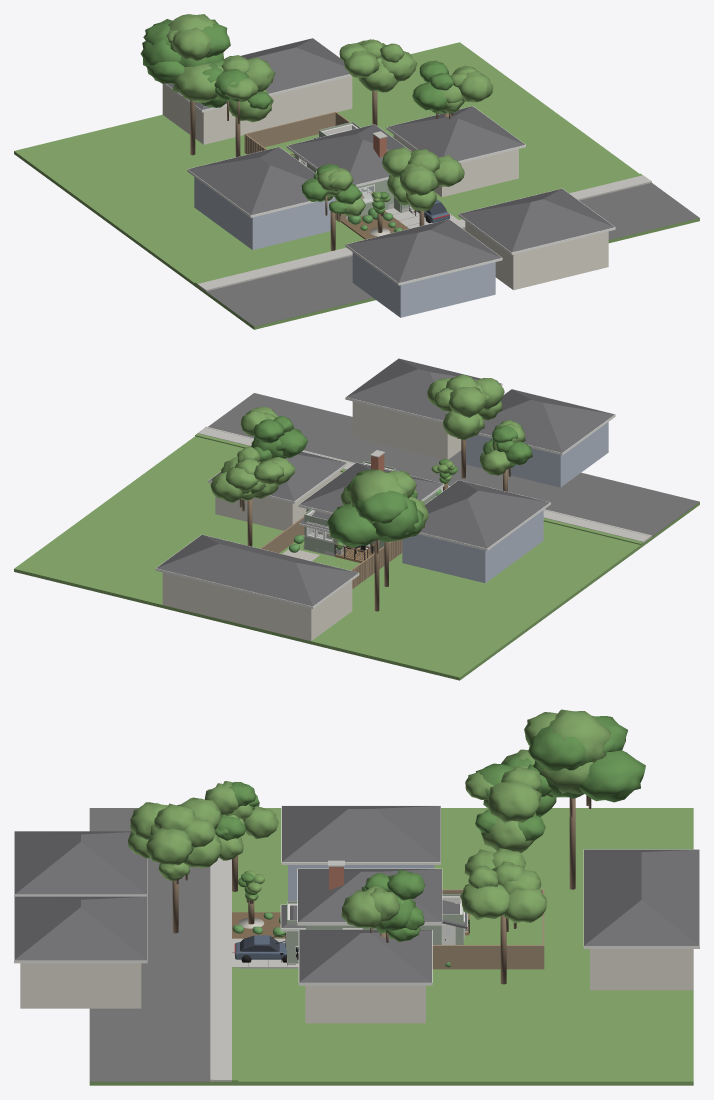
Rendered from house.glb.
3 views of the same model, one above another, from view 1: azimuth 30°, elevation 25°; view 2: azimuth 150°, elevation 25°; view 3: azimuth 270°, elevation 25° (orthographic). The views are drawn at different scales.
Visible parts, largest first — view 1: ground, street, nbAcross2.roof, nbAcross1.roof, nbBack, nbW.roof, nbAcross1, nbW, nbAcross2, nbE.roof, roof_main, nbBack.roof (+25 smaller); view 2: ground, street, nbBack.roof, nbBack, nbW.roof, nbW, nbAcross1.roof, nbAcross2, nbAcross2.roof, nbAcross1, nbE, nbE.roof (+19 smaller); view 3: ground, street, nbBack.roof, nbW.roof, nbAcross2.roof, nbAcross1.roof, nbE.roof, nbAcross2, nbE, nbBack, sidewalk, roof_main (+30 smaller).
Part boxes in pixels (box(x1,y1,x2,y2)): ground: box(14, 42, 699, 329); street: box(206, 183, 699, 326); nbAcross2.roof: box(459, 188, 614, 252); nbAcross1.roof: box(346, 219, 501, 282); nbBack: box(162, 76, 352, 144); nbW.roof: box(188, 147, 315, 215); nbAcross1: box(352, 252, 495, 317); nbW: box(194, 177, 335, 249); nbAcross2: box(465, 221, 608, 290); nbE.roof: box(388, 106, 524, 161); roof_main: box(288, 124, 410, 184); nbBack.roof: box(166, 38, 349, 109); ground: box(14, 436, 699, 680); street: box(208, 393, 699, 536); nbBack.roof: box(156, 534, 358, 606); nbBack: box(162, 572, 352, 640); nbW.roof: box(420, 480, 549, 548); nbW: box(402, 510, 543, 583); nbAcross1.roof: box(479, 389, 614, 452); nbAcross2: box(352, 401, 461, 459); nbAcross2.roof: box(346, 358, 501, 420); nbAcross1: box(466, 422, 608, 487); nbE: box(215, 470, 340, 530); nbE.roof: box(209, 451, 346, 501); ground: box(89, 808, 693, 1085); street: box(89, 808, 210, 1081); nbBack.roof: box(584, 849, 699, 945); nbW.roof: box(282, 806, 440, 861); nbAcross2.roof: box(14, 896, 147, 960); nbAcross1.roof: box(14, 831, 147, 894); nbE.roof: box(299, 930, 431, 982); nbAcross2: box(20, 963, 141, 1008); nbE: box(305, 985, 425, 1023); nbBack: box(590, 949, 693, 990); sidewalk: box(213, 858, 231, 1081); roof_main: box(298, 869, 441, 922).
Bounding box in the file's own units: 45.72 × 13.85 × 48.46.
